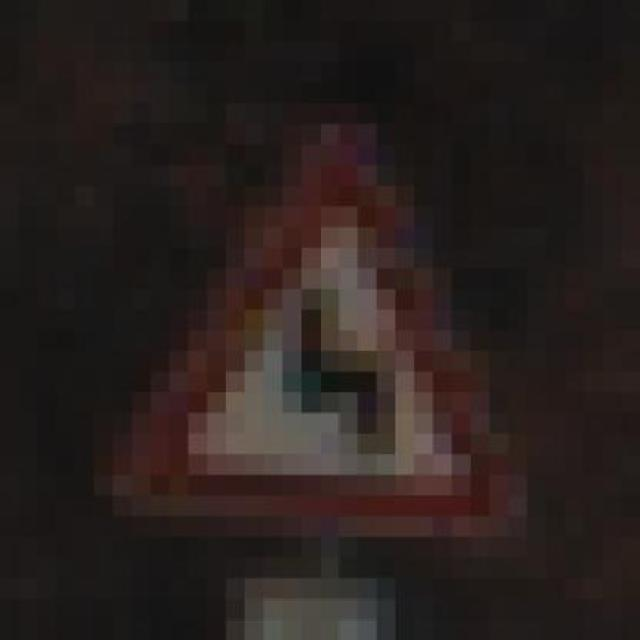Left Zig Zag Traffic: (113, 82, 509, 578)
